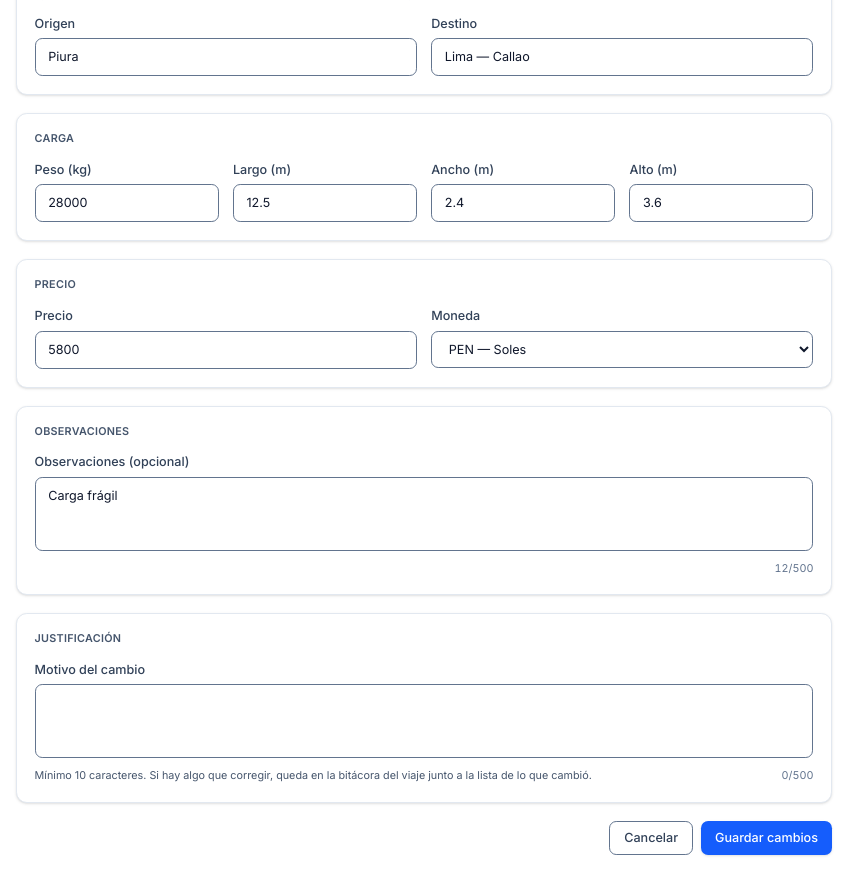
Test: ServiceEditPage, lo que manda › un error sobre un campo visible se marca en ese campo
(page scrolled)
Type "Corrijo el destino que vino mal del cliente" into the text box labelled "Motivo del cambio" at (424, 721), box [35,684,813,758]
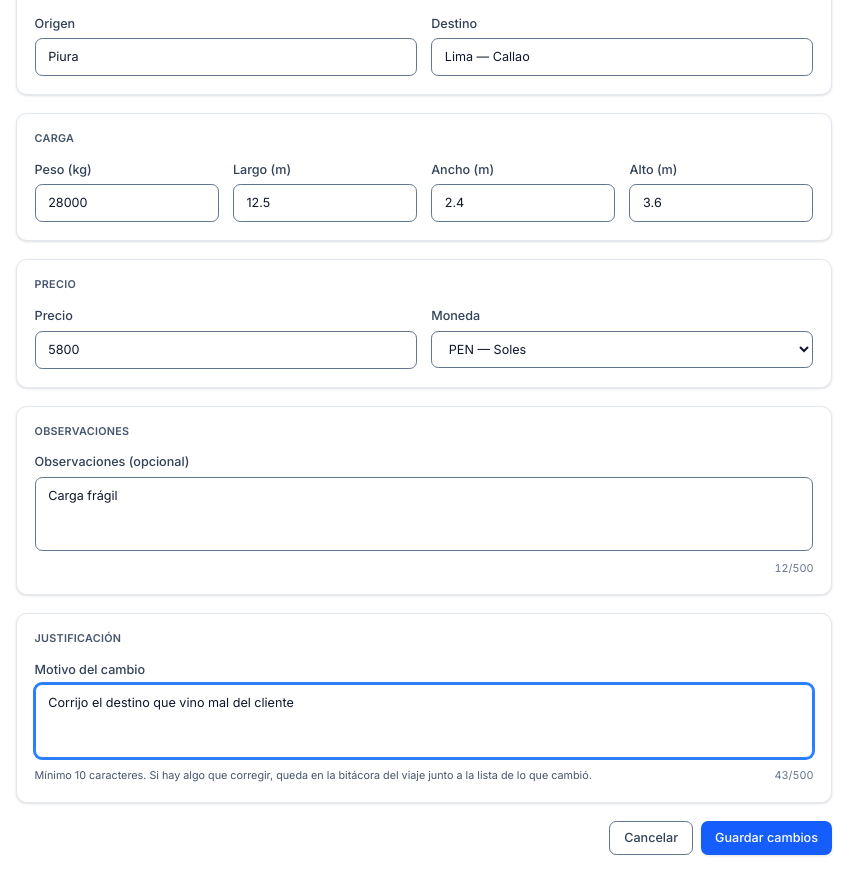
Click the button "Guardar cambios" at (766, 838), box [701,820,832,855]
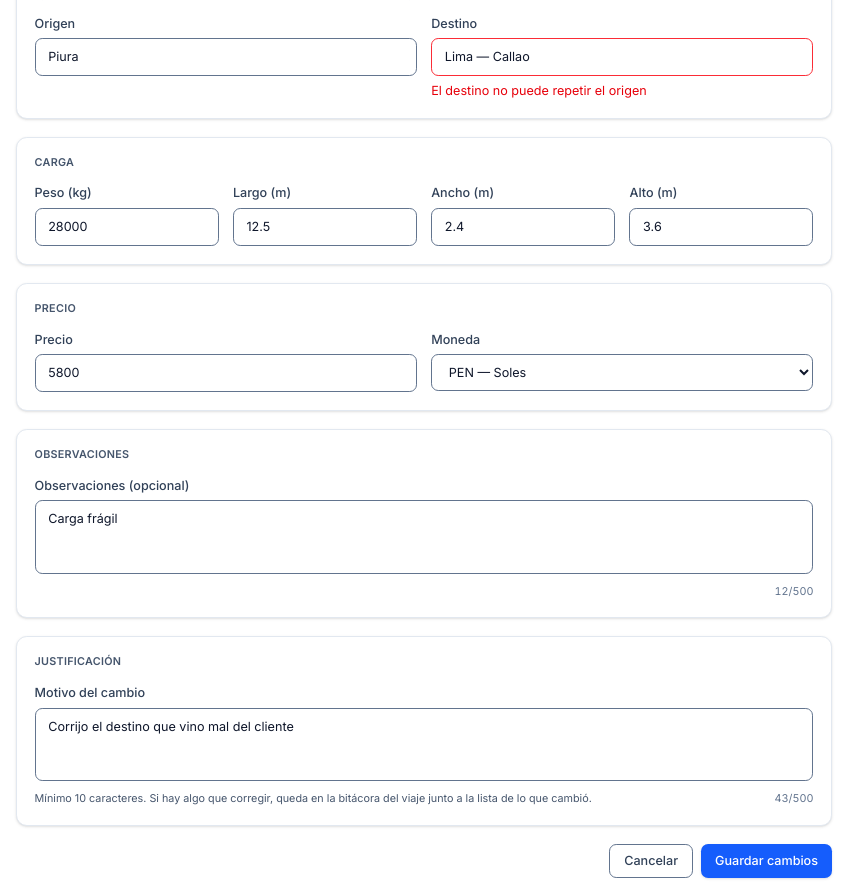
expect the text "El destino no puede repetir el origen" is shown: met, box [431,83,647,98]
